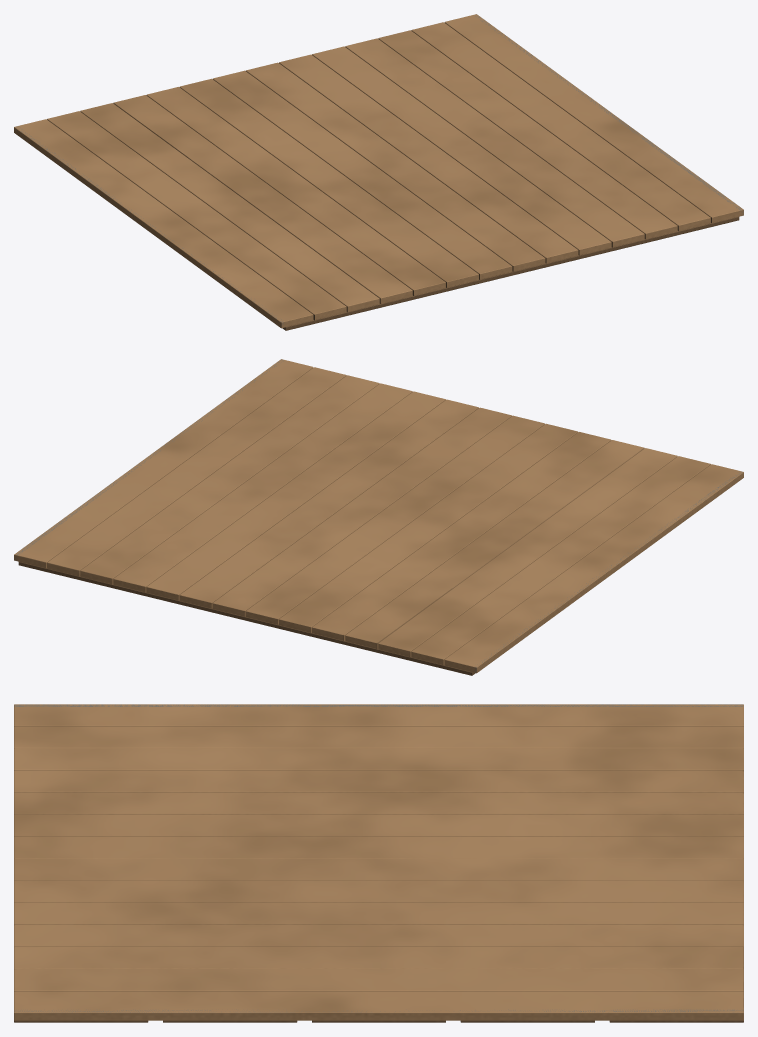
Rendered from furn_floor.glb.
3 views of the same model, one above another, from view 1: azimuth 30°, elevation 25°; view 2: azimuth 150°, elevation 25°; view 3: azimuth 270°, elevation 25° (orthographic). The views are drawn at different scales.
Parts seen in each view (by area): view 1: furn_floor; view 2: furn_floor; view 3: furn_floor.
Part boxes in pixels (x1,y1,x2,y2): furn_floor: (14,14,743,330); furn_floor: (14,359,743,675); furn_floor: (14,704,743,1022).
Bounding box in the file's own units: 4 × 0.08 × 4.
Materials: 1 (1 with a texture image).
